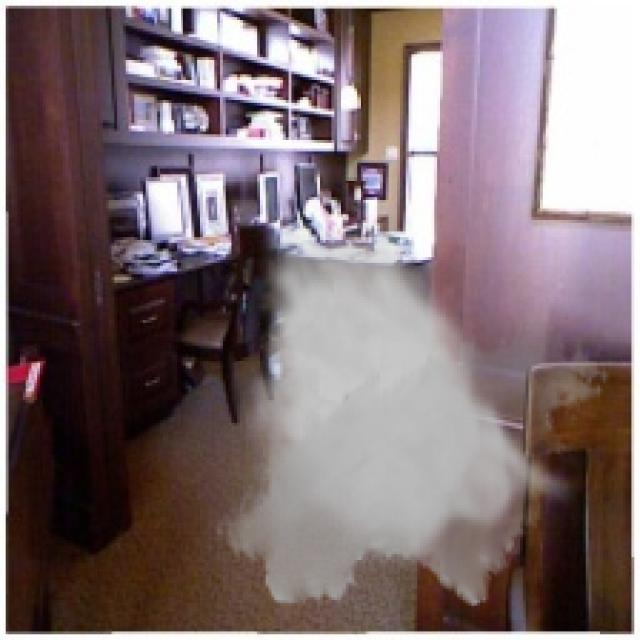smoke: (214, 206, 612, 617)
